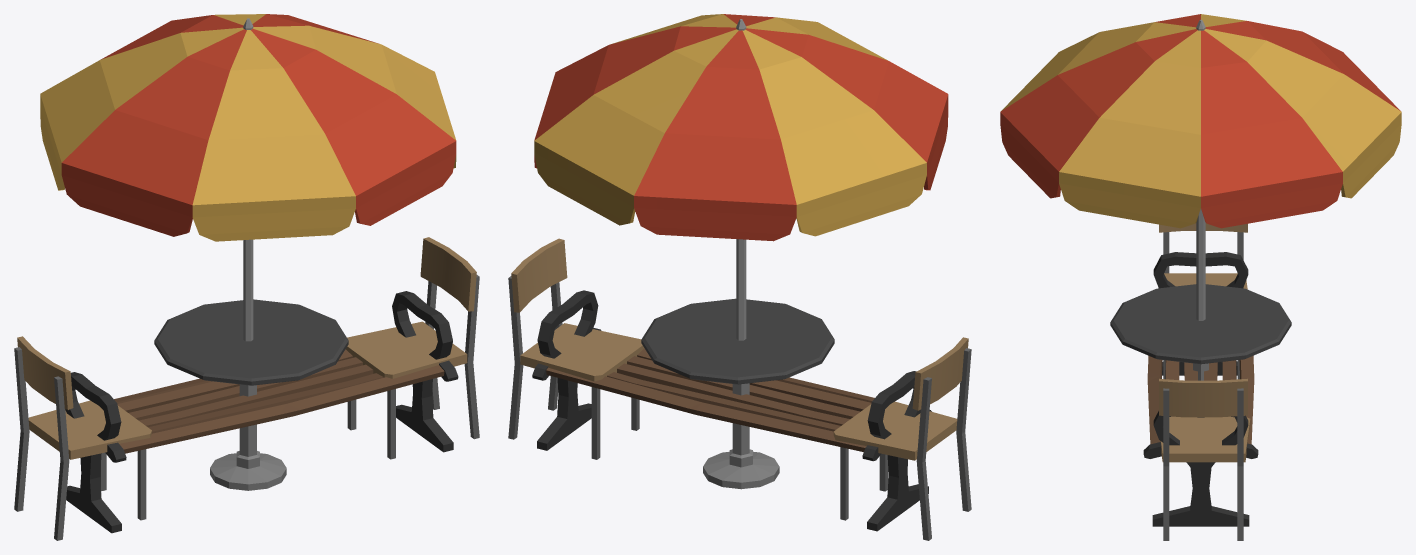
Rendered from street-props.glb.
The picture shows the model from 3 angles, left to right: view 1: azimuth 30°, elevation 25°; view 2: azimuth 150°, elevation 25°; view 3: azimuth 270°, elevation 25°; orthographic projection. The views are drawn at different scales.
Visible parts, largest first — view 1: outdoor_dining, bench_orientation_center; view 2: outdoor_dining, bench_orientation_center; view 3: outdoor_dining, bench_orientation_center.
Part boxes in pixels (box(x1,y1,x2,y2)): outdoor_dining: box(14, 14, 479, 540); bench_orientation_center: box(65, 291, 458, 533); outdoor_dining: box(508, 14, 971, 540); bench_orientation_center: box(532, 290, 931, 531); outdoor_dining: box(1000, 14, 1401, 540); bench_orientation_center: box(1143, 252, 1258, 526).
Size of the model in its own units: 2.57 by 2.65 by 2.27.
Materials: 1 (1 with a texture image).
